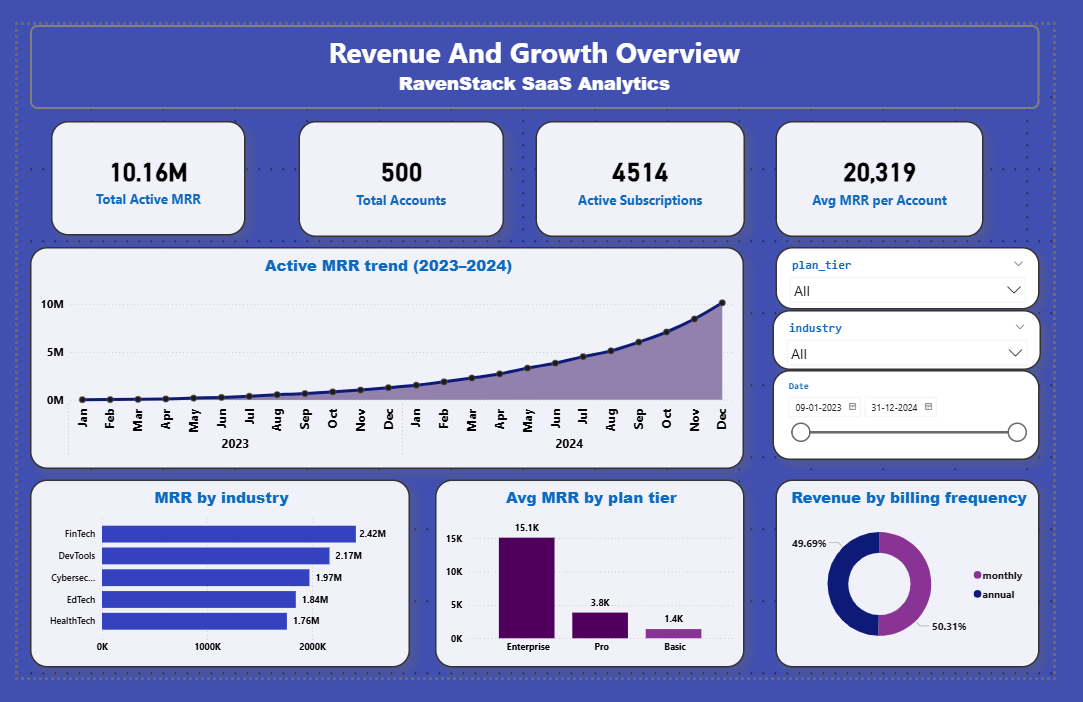

The dashboard page shown, as its layout file describes it:
{"tool":"powerbi","page":{"name":"Revenue & Growth Overview","canvas":[1380,870],"ordinal":0},"visuals":[{"type":"textbox","box":[16,0,1345.8,112],"z":0},{"type":"card","fields":{"Values":["subscriptions.Total Active MRR"]},"box":[44.4,128,259.6,152.9],"z":1000},{"type":"card","fields":{"Values":["accounts.Total Accounts"]},"box":[373.3,128,273.8,154.7],"z":2000},{"type":"card","fields":{"Values":["subscriptions.Avg MRR per Account"]},"box":[1009.8,128,277.3,154.7],"z":3000},{"type":"barChart","title":"MRR by industry","fields":{"Category":["accounts.industry"],"Y":["subscriptions.Total Active MRR"]},"box":[16,606.2,506.7,250.7],"z":4000},{"type":"columnChart","title":"Avg MRR by plan tier","fields":{"Category":["subscriptions.plan_tier"],"Y":["subscriptions.Avg MRR per Account"]},"box":[556.4,606.2,412.4,250.7],"z":5000},{"type":"donutChart","title":"Revenue by billing frequency","fields":{"Category":["subscriptions.billing_frequency"],"Y":["subscriptions.Total Active MRR"]},"box":[1009.8,606.2,352,250.7],"z":6000},{"type":"slicer","fields":{"Values":["accounts.plan_tier"]},"box":[1009.8,296.9,352,83.6],"z":7000},{"type":"slicer","fields":{"Values":["accounts.industry"]},"box":[1006,380,358,80],"z":8000},{"type":"slicer","fields":{"Values":["DateTable.Date"]},"box":[1006,460,356,120],"z":9000},{"type":"card","fields":{"Values":["subscriptions.Active Subscriptions"]},"box":[689.8,128,279.1,154.7],"z":10000},{"type":"lineChart","title":"Active MRR trend (2023–2024)","fields":{"Y":["subscriptions.Active MRR by Month"],"Category":["DateTable.Year","DateTable.Month Name"]},"box":[16.3,296.2,951.8,296.2],"z":11000}]}

Visuals, with their boxes in screenshot pixels (x1, y1, x2, y2), scaled from the page's 1380x870 canvas onto the 1083x702 screenshot:
textbox: 13:0:1069:90
card - subscriptions.Total Active MRR: 35:103:239:227
card - accounts.Total Accounts: 293:103:508:228
card - subscriptions.Avg MRR per Account: 792:103:1010:228
"MRR by industry" barChart: 13:489:410:691
"Avg MRR by plan tier" columnChart: 437:489:760:691
"Revenue by billing frequency" donutChart: 792:489:1069:691
slicer - accounts.plan_tier: 792:240:1069:307
slicer - accounts.industry: 789:307:1070:371
slicer - DateTable.Date: 789:371:1069:468
card - subscriptions.Active Subscriptions: 541:103:760:228
"Active MRR trend (2023–2024)" lineChart: 13:239:760:478
